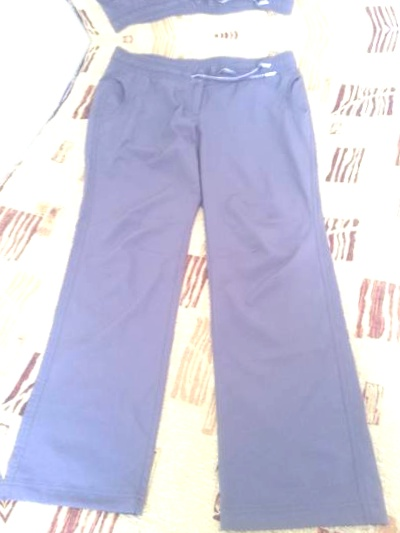Pants: (0, 39, 393, 533), (0, 0, 373, 34)
